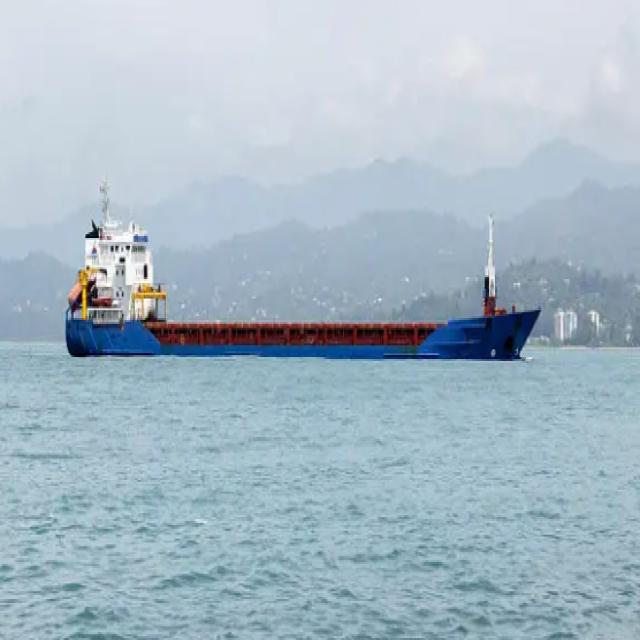cargoship: (62, 174, 541, 363)
